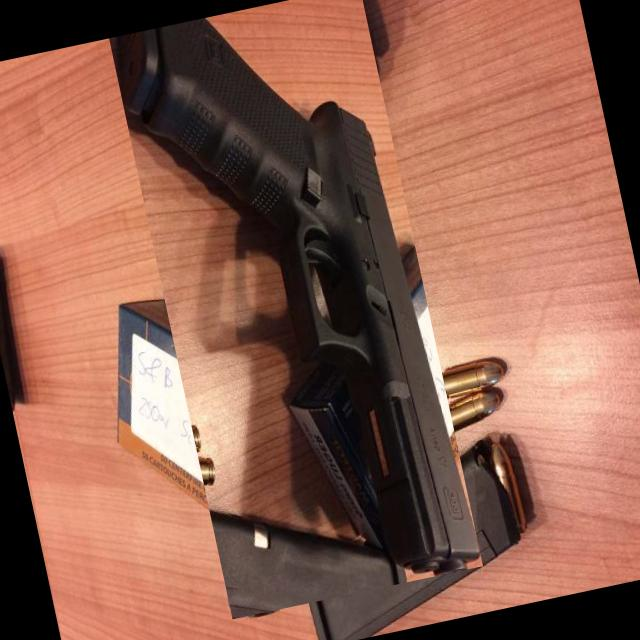Gun: (118, 18, 479, 574)
